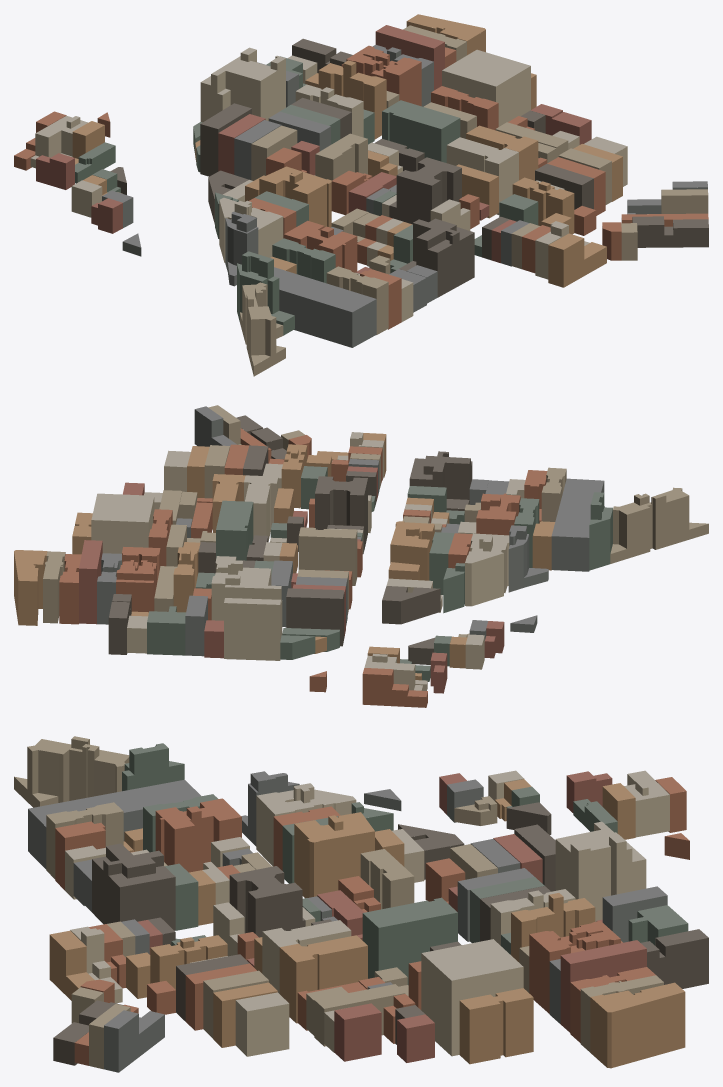
The model's file is tile--3_-1.glb.
3 renders of one model, top to bottom at view 1: azimuth 30°, elevation 25°; view 2: azimuth 150°, elevation 25°; view 3: azimuth 270°, elevation 25°, orthographic. The views are drawn at different scales.
Visible parts, largest first — view 1: wall, roof; view 2: wall, roof; view 3: wall, roof.
Part boxes in pixels (bbox=[...]): wall: bbox=[14, 21, 708, 376]; roof: bbox=[14, 14, 708, 365]; wall: bbox=[14, 409, 708, 707]; roof: bbox=[14, 405, 707, 696]; wall: bbox=[14, 739, 708, 1072]; roof: bbox=[14, 736, 708, 1045].
Bounding box in the file's own units: 219 × 34.5 × 222.
